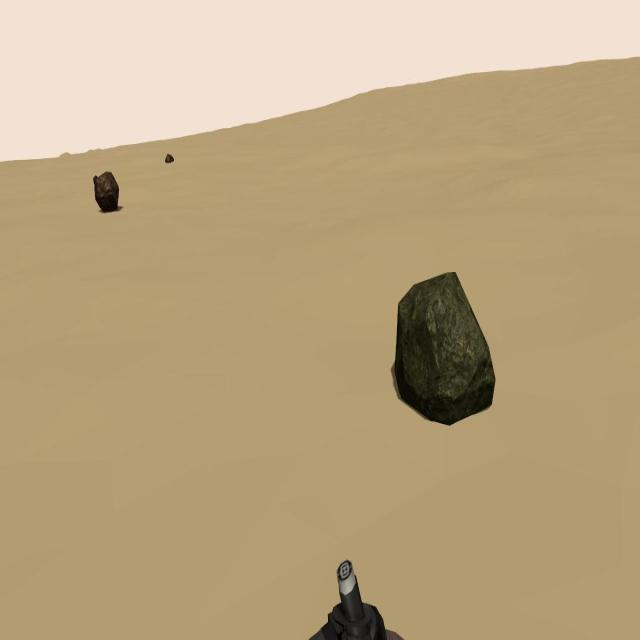rock: (398, 269, 496, 425), (94, 174, 119, 212), (165, 155, 173, 161)
